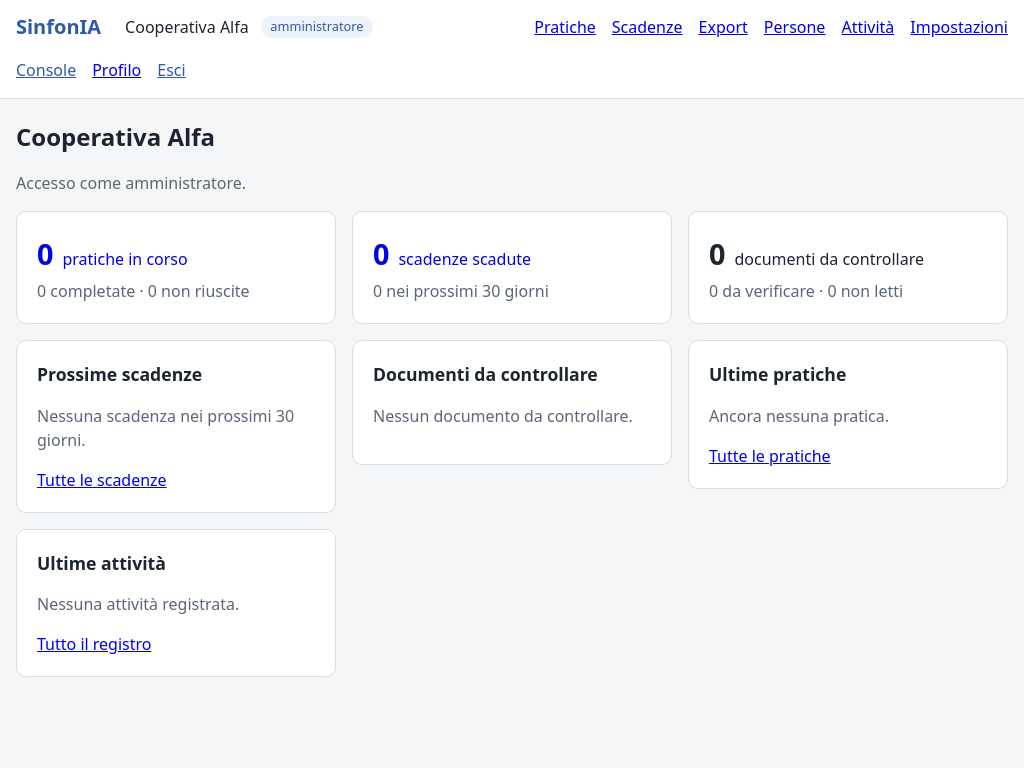
Test: platform console (FE7) › opens from the header of an organization, with a token of its own
Click the button "Console". click: (46, 70)
box: [16, 54, 76, 86]
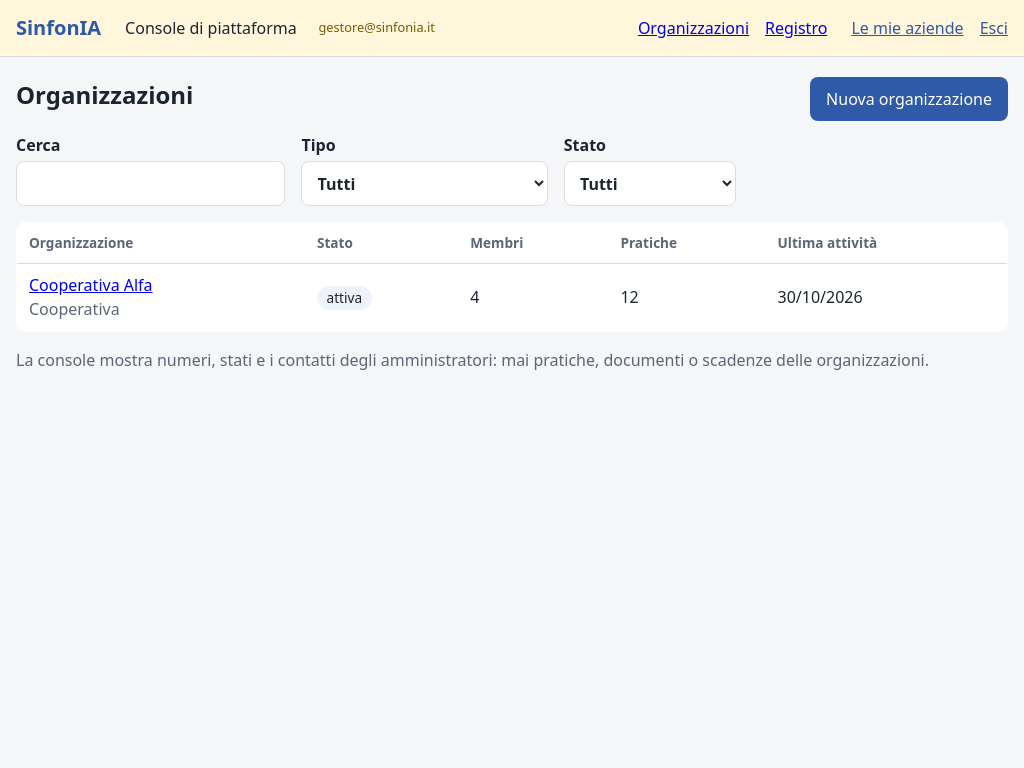
Check: the link "Cooperativa Alfa" is shown, box [29, 274, 153, 296]
Check: the text "Console di piattaforma" is shown, box [125, 16, 297, 40]
